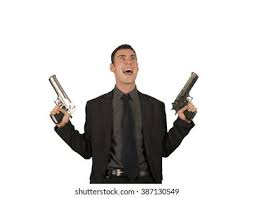gun: (46, 73, 78, 129), (169, 69, 202, 122)
